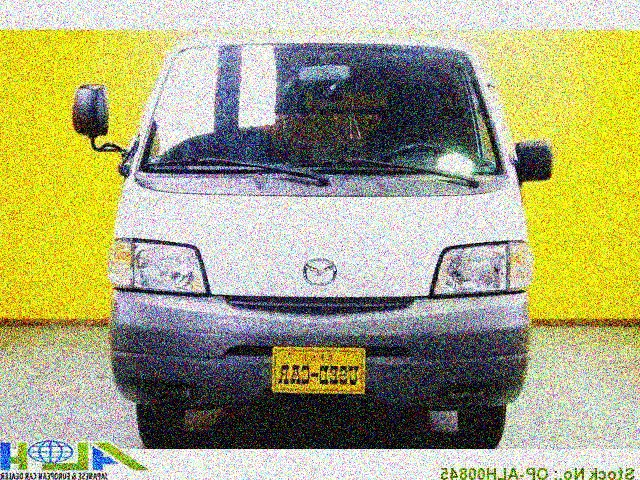van: (74, 29, 552, 440)
